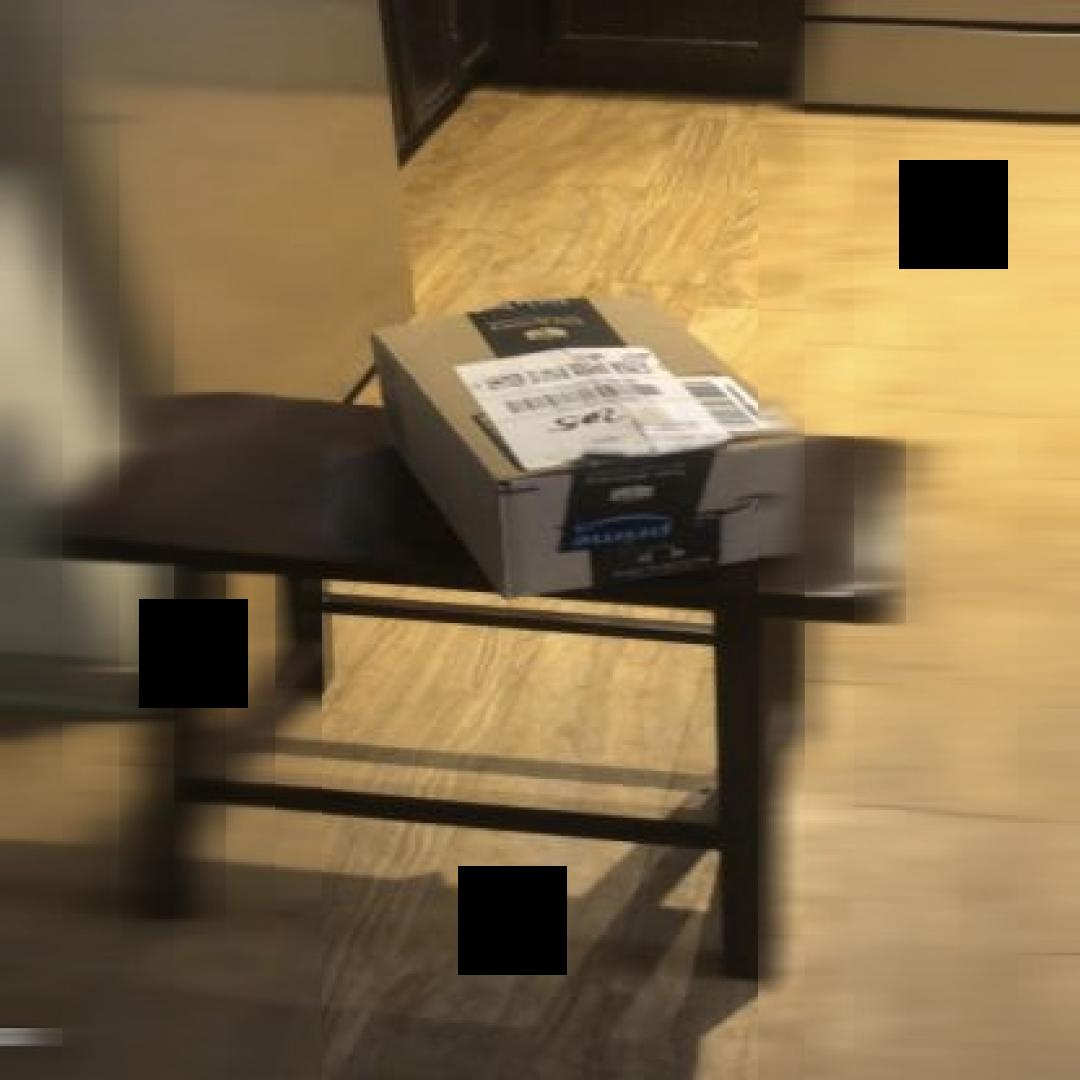package: (364, 280, 828, 605)
